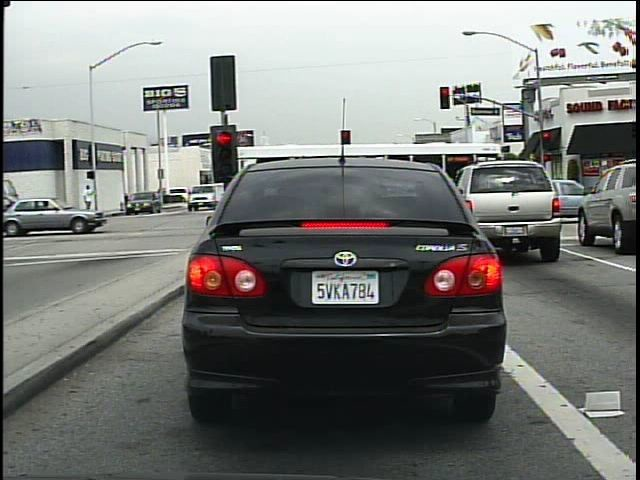person: (83, 183, 97, 211)
